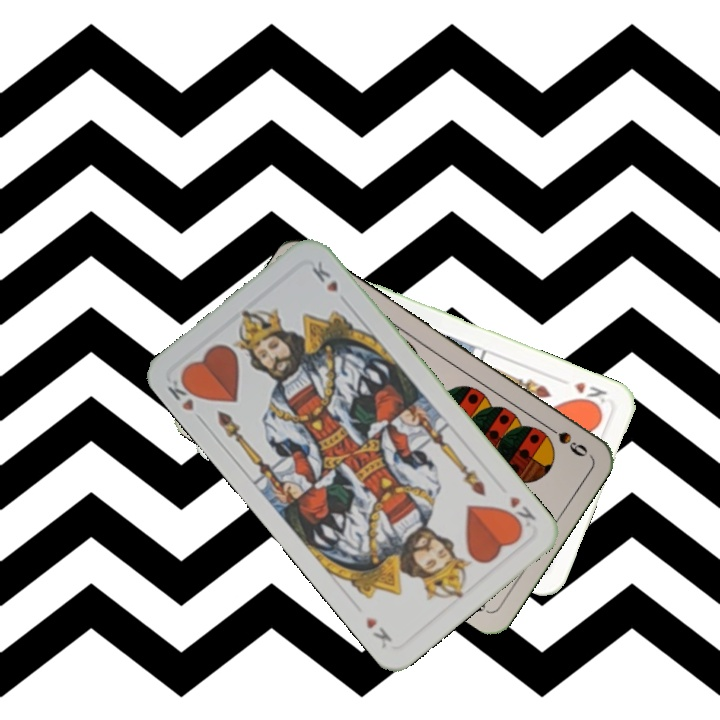HK: (163, 370, 207, 426), (501, 491, 539, 533), (570, 377, 610, 411)
S9: (539, 419, 591, 460)
